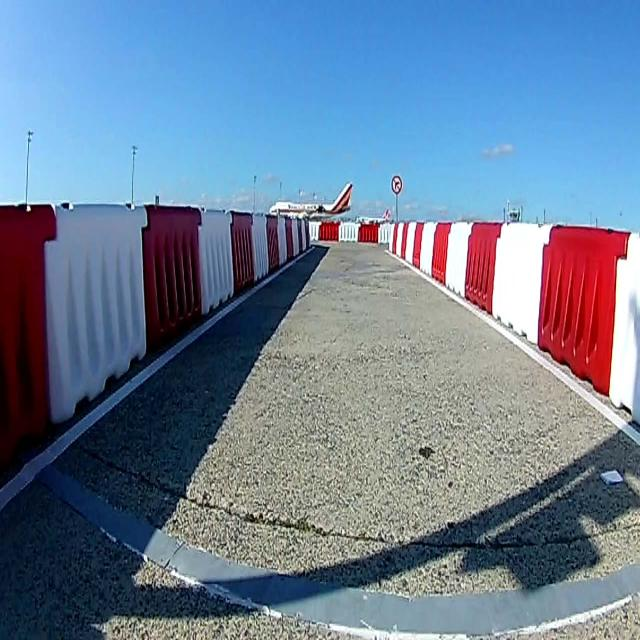sagadonulmez: (392, 176, 402, 194)
